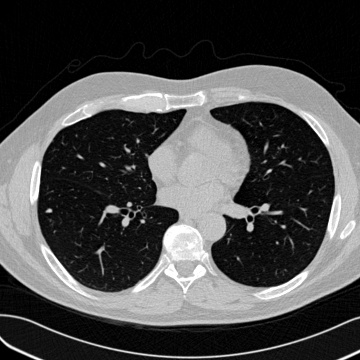PN: (46, 208, 52, 214)
